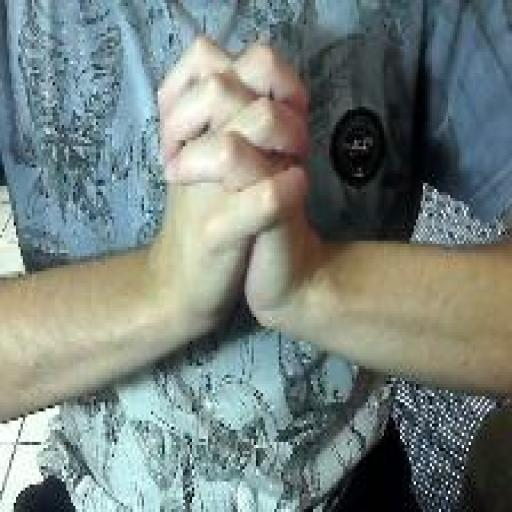Mi -snake-: (153, 28, 313, 342)
